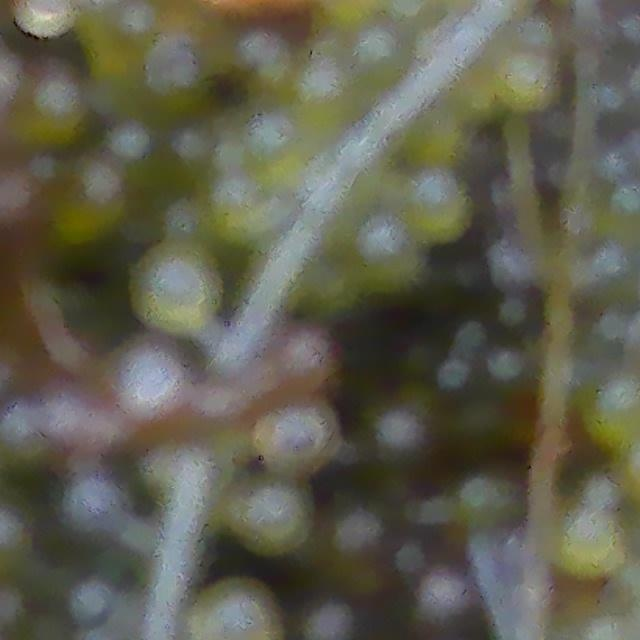SeaGrape: (132, 240, 225, 336), (108, 342, 189, 422), (229, 480, 312, 558), (186, 576, 286, 640), (423, 558, 483, 612), (372, 397, 432, 451), (339, 490, 383, 546), (314, 593, 362, 640), (17, 0, 73, 36)
